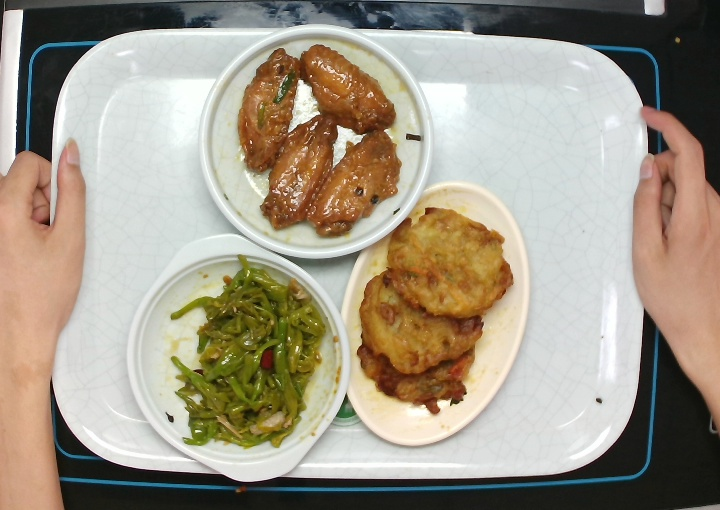JYsf-Shuang_Er_Pan: (121, 230, 353, 486)
JYsf-Tuo_Yuan_Wan: (337, 176, 536, 453)
JYsf-Xiao_Yuan_Pan: (195, 21, 439, 262)
